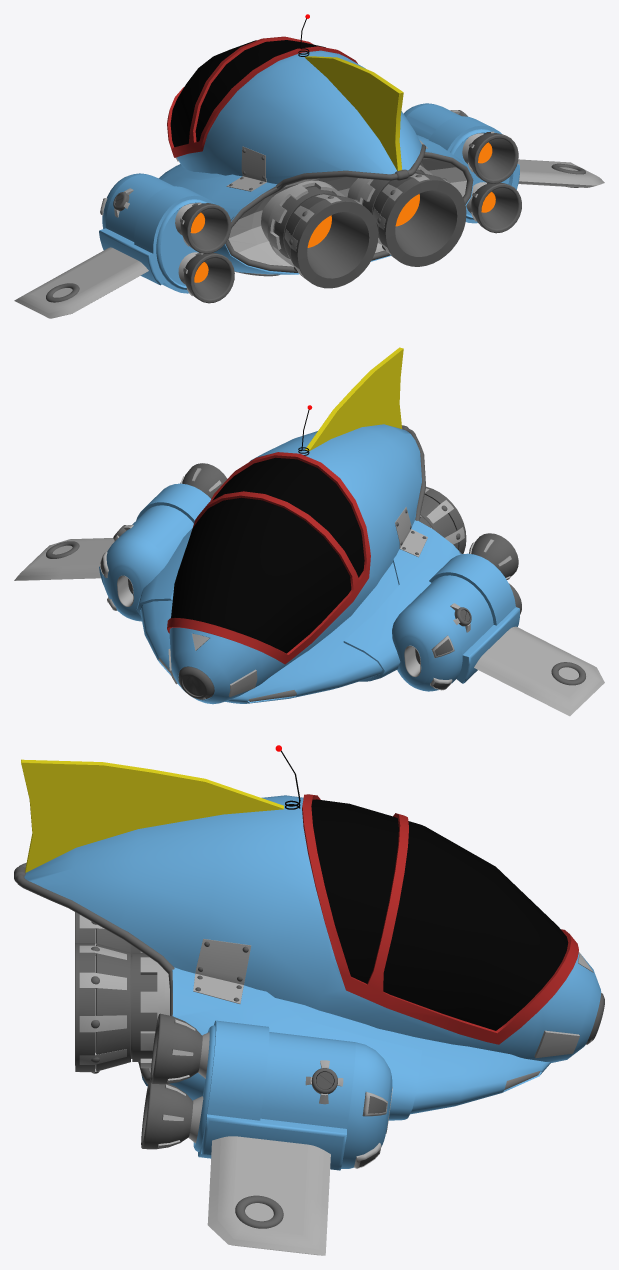
Rendered from space_ship.fbx.
3 views of the same model, one above another, from view 1: azimuth 30°, elevation 25°; view 2: azimuth 150°, elevation 25°; view 3: azimuth 270°, elevation 25° (orthographic). The views are drawn at different scales.
Visible parts, largest first — view 1: Sphere, Cylinder, Cylinder_3, Cube_2, Sphere_1_4, Sphere_5, Sphere_1, Cube, Sweep_2, Cylinder_6; view 2: Sphere, Cylinder_3, Sphere_1, Cube_2, Cube, Sphere_1_4, Cylinder, Cylinder_6; view 3: Sphere, Cylinder_3, Sphere_1, Cube, Cube_2, Cylinder, Sphere_5, Sphere_1_4, Sweep_2, Cylinder_6.
Part boxes in pixels (<box>): Sphere: <box>167,36,466,266</box>; Cylinder: <box>261,165,466,288</box>; Cylinder_3: <box>99,103,519,293</box>; Cube_2: <box>14,159,604,318</box>; Sphere_1_4: <box>175,131,518,253</box>; Sphere_5: <box>178,182,521,303</box>; Sphere_1: <box>158,135,473,274</box>; Cube: <box>305,56,403,170</box>; Sweep_2: <box>225,144,473,272</box>; Cylinder_6: <box>46,163,585,302</box>; Sphere: <box>167,424,421,704</box>; Cylinder_3: <box>99,483,519,691</box>; Sphere_1: <box>136,507,461,703</box>; Cube_2: <box>14,538,604,716</box>; Cube: <box>305,347,403,450</box>; Sphere_1_4: <box>180,463,518,579</box>; Cylinder: <box>419,486,466,553</box>; Cylinder_6: <box>46,541,585,685</box>; Sphere: <box>24,794,604,1072</box>; Cylinder_3: <box>193,1020,392,1170</box>; Sphere_1: <box>141,939,550,1120</box>; Cube: <box>21,759,283,872</box>; Cube_2: <box>207,1136,330,1255</box>; Cylinder: <box>75,912,169,1072</box>; Sphere_5: <box>141,1079,203,1149</box>; Sphere_1_4: <box>150,1013,209,1084</box>; Sweep_2: <box>16,863,174,1083</box>; Cylinder_6: <box>235,1195,283,1228</box>.
Bounding box in the file's own units: 936 × 393 × 621.
